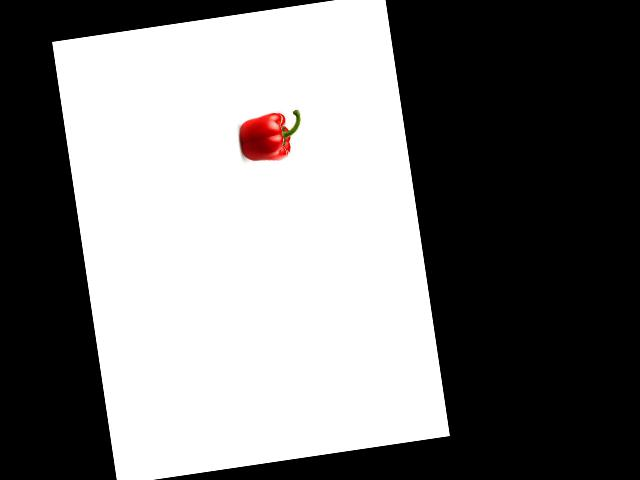bell_pepper: (236, 107, 306, 164)
